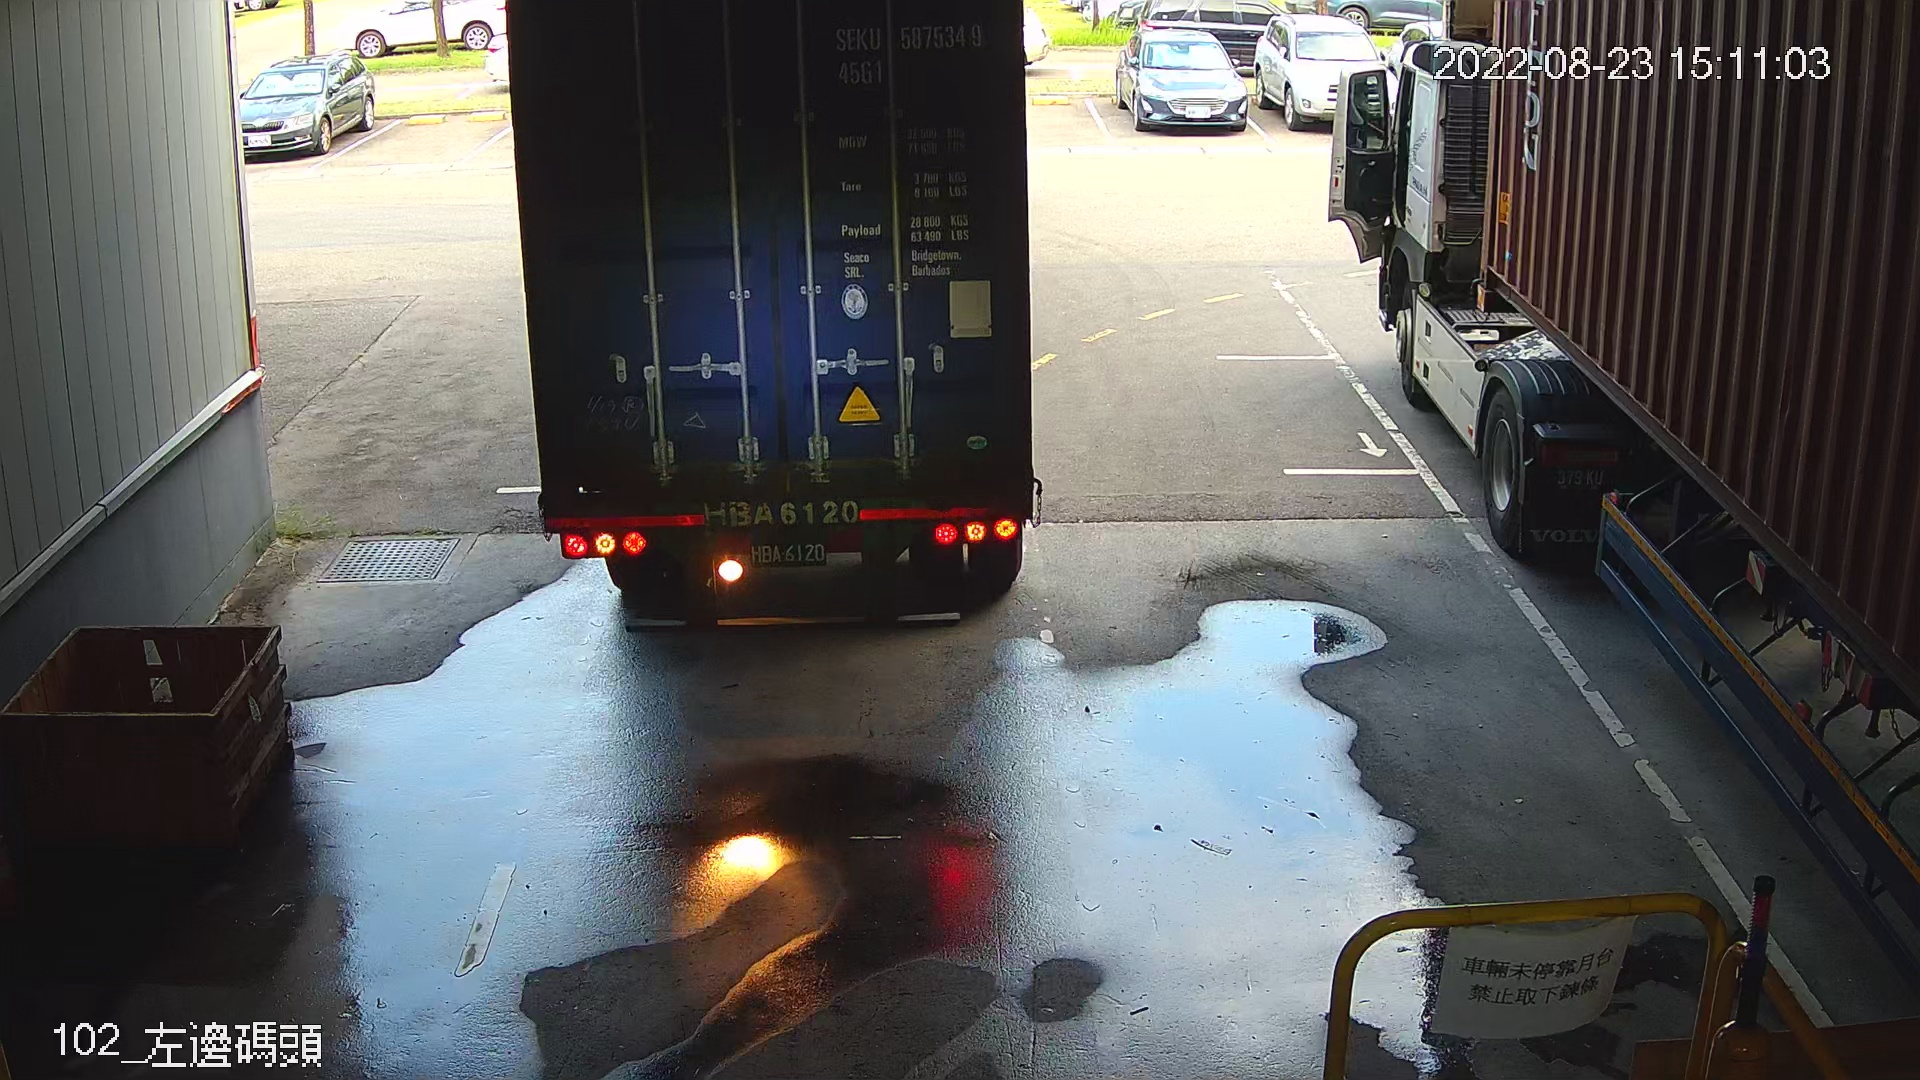container: (822, 15, 989, 94)
